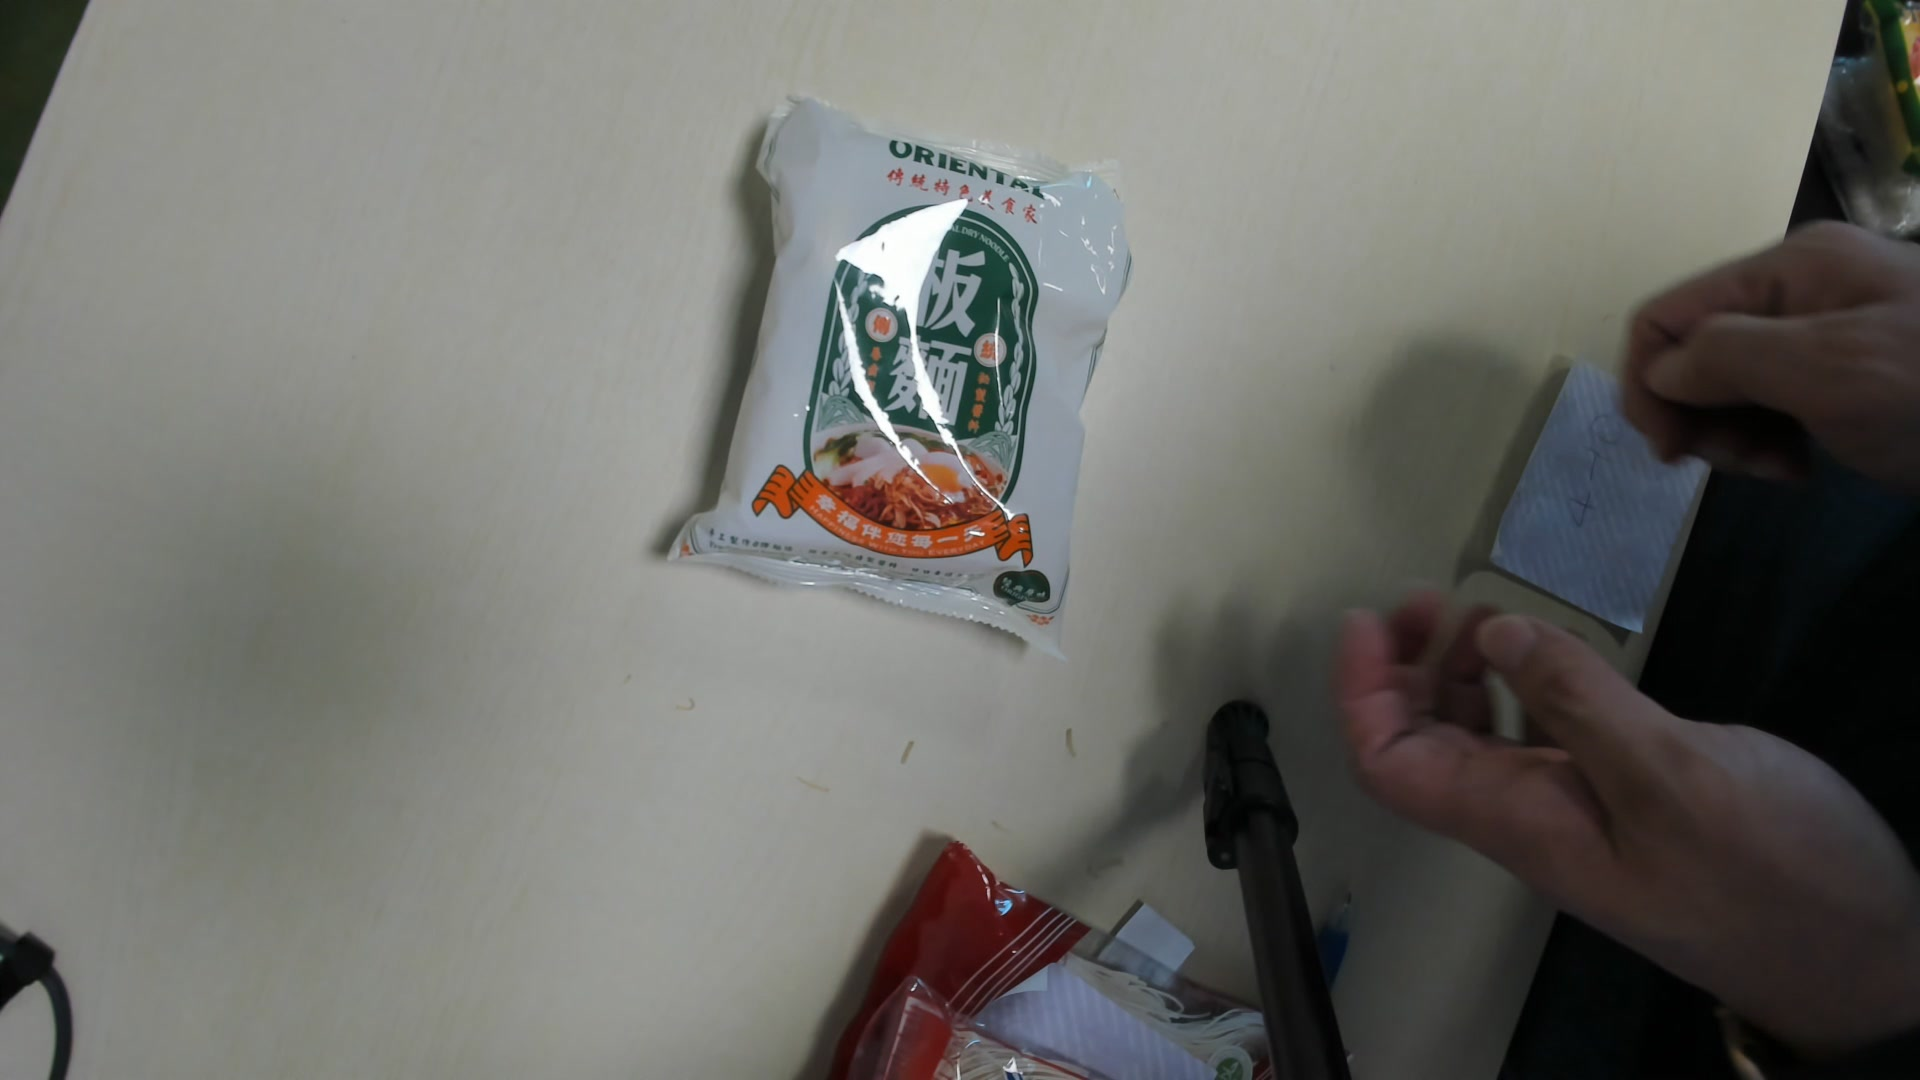BeeHoonVermicelli_100-199g_NonHalal_NonHealthy: (665, 105, 1155, 655)
